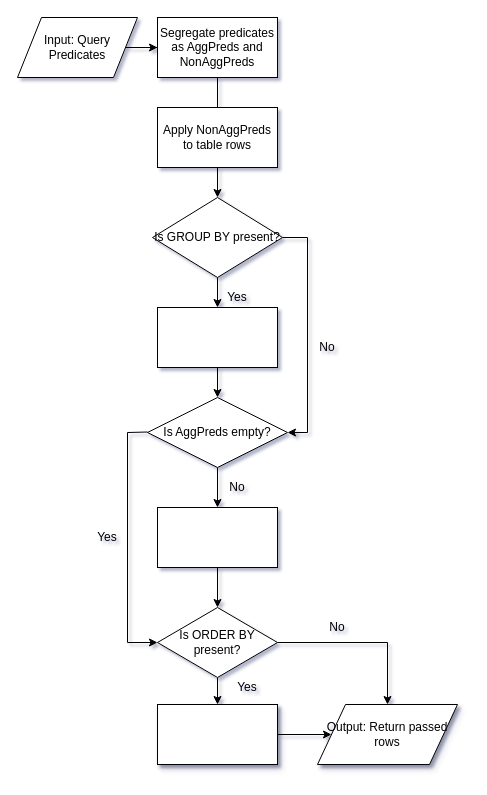
Image size: 487x795. Some labels were removed from this diagram. The shapes that lost their labels are listed below. From the top down, each one's centre as x and y in pixels, then its label:
point (217, 337): Map selected rows to GROUP BY cols as keys
point (217, 537): Apply AggPreds to selected rows / mapped rows
point (218, 736): Sort rows by ASC/DESC as per ORDER BY cols
